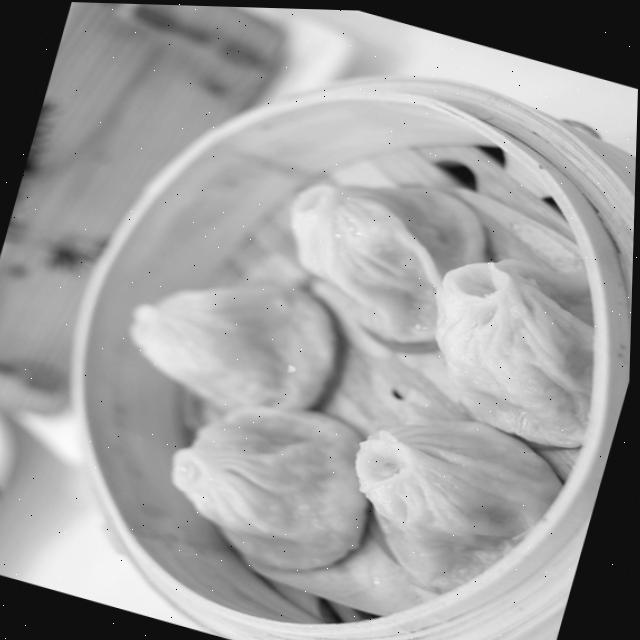带馅早点: (11, 9, 640, 640)
